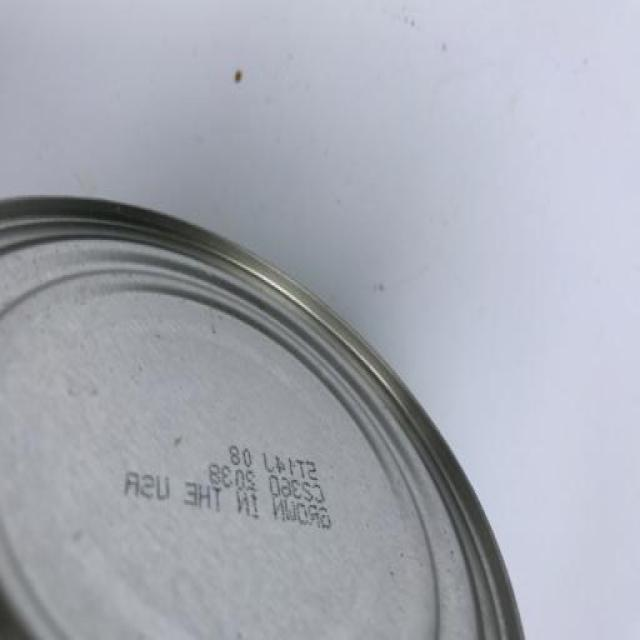Metal: (0, 197, 528, 640)
